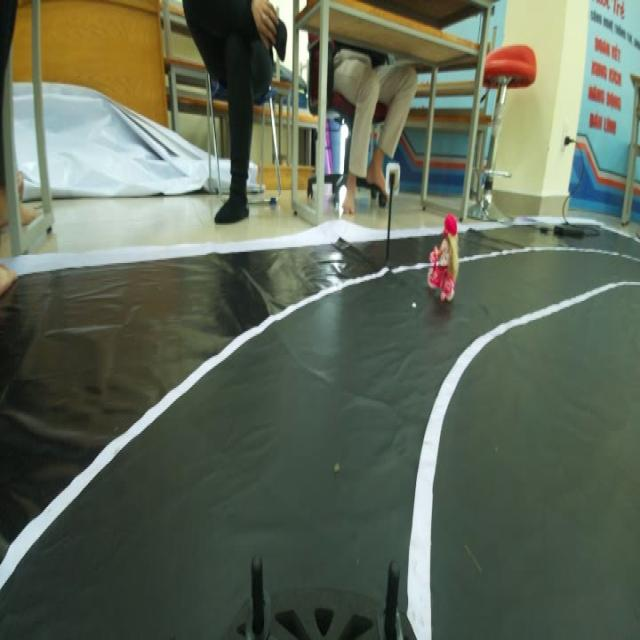pedestrian: (427, 213, 460, 315)
